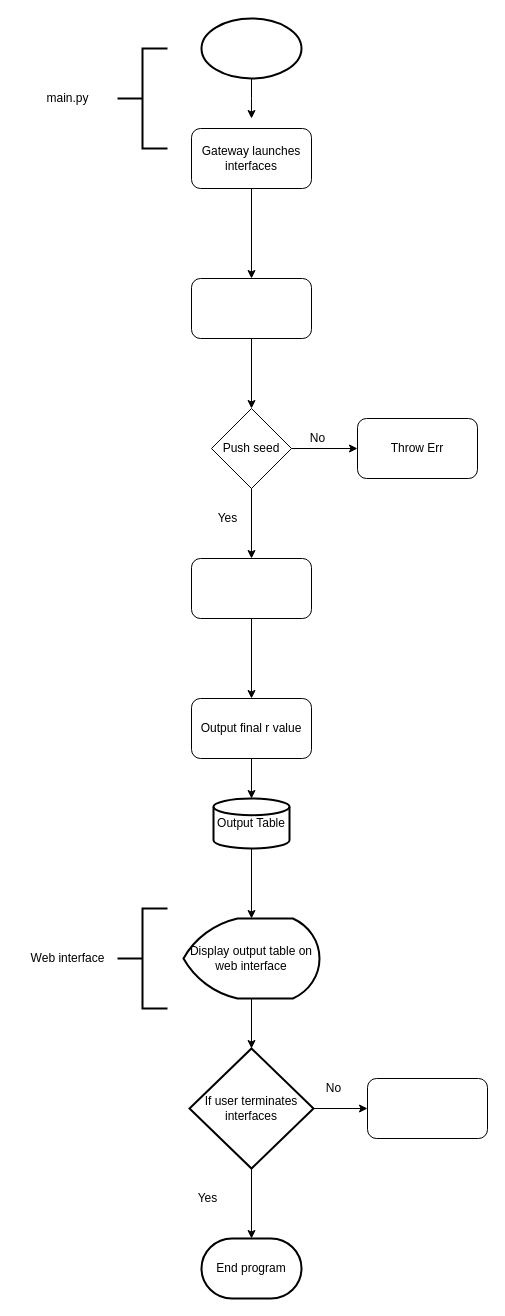
The diagram is 505 pixels wide and 1316 high, and some of its shapes have lost their labels. Each missing label, with the centre of its shape:
"For each node" belongs at (x=251, y=308).
"Gateway ends call" belongs at (x=251, y=588).
"Keep interfaces running" belongs at (x=427, y=1108).
"Main" belongs at (x=251, y=48).
